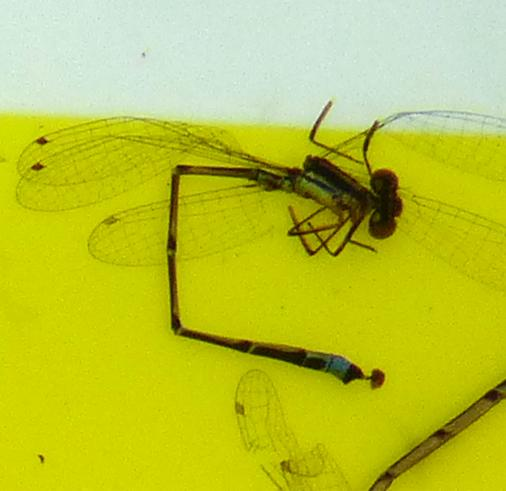Odonata: (100, 100, 406, 391)
